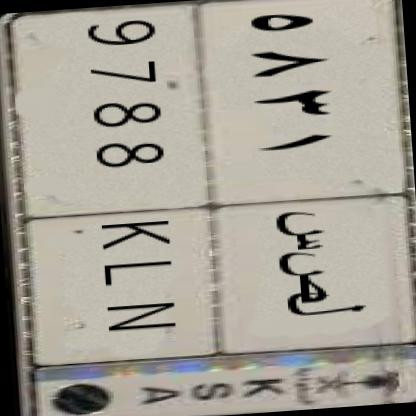english: (4, 0, 245, 380)
